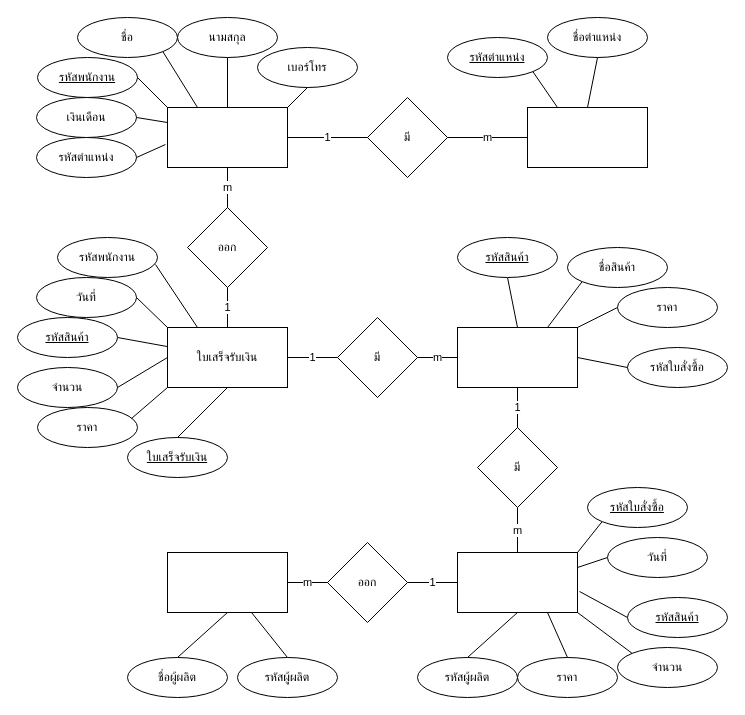
The diagram is 745 pixels wide and 715 high, and some of its shapes have lost their labels. The centre of each missing label's shape, as x and y in pixels:
"ตำแหน่ง" belongs at [587,137].
"ผู้ผลิต" belongs at [227,582].
"พนักงาน" belongs at [227,137].
"สินค้า" belongs at [517,357].
"ใบสั่งซื้อ" belongs at [517,582].
